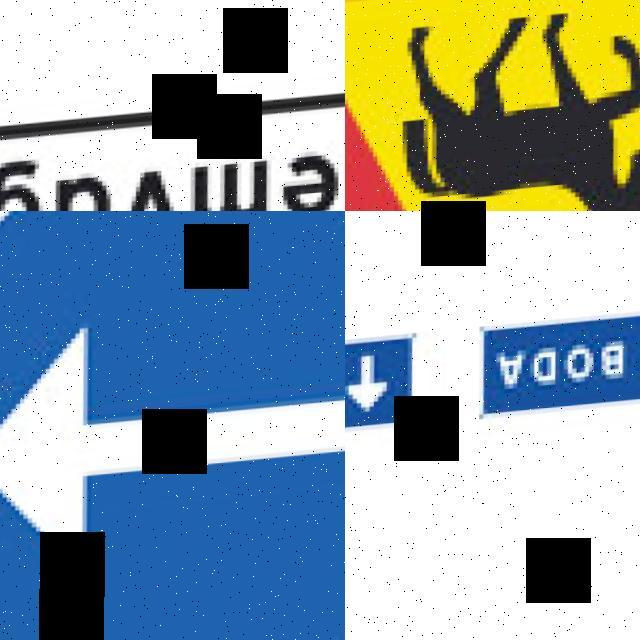171: (0, 87, 345, 211)
67: (345, 314, 640, 462)
94: (0, 211, 345, 640)
warning wild animal: (345, 0, 640, 211)
